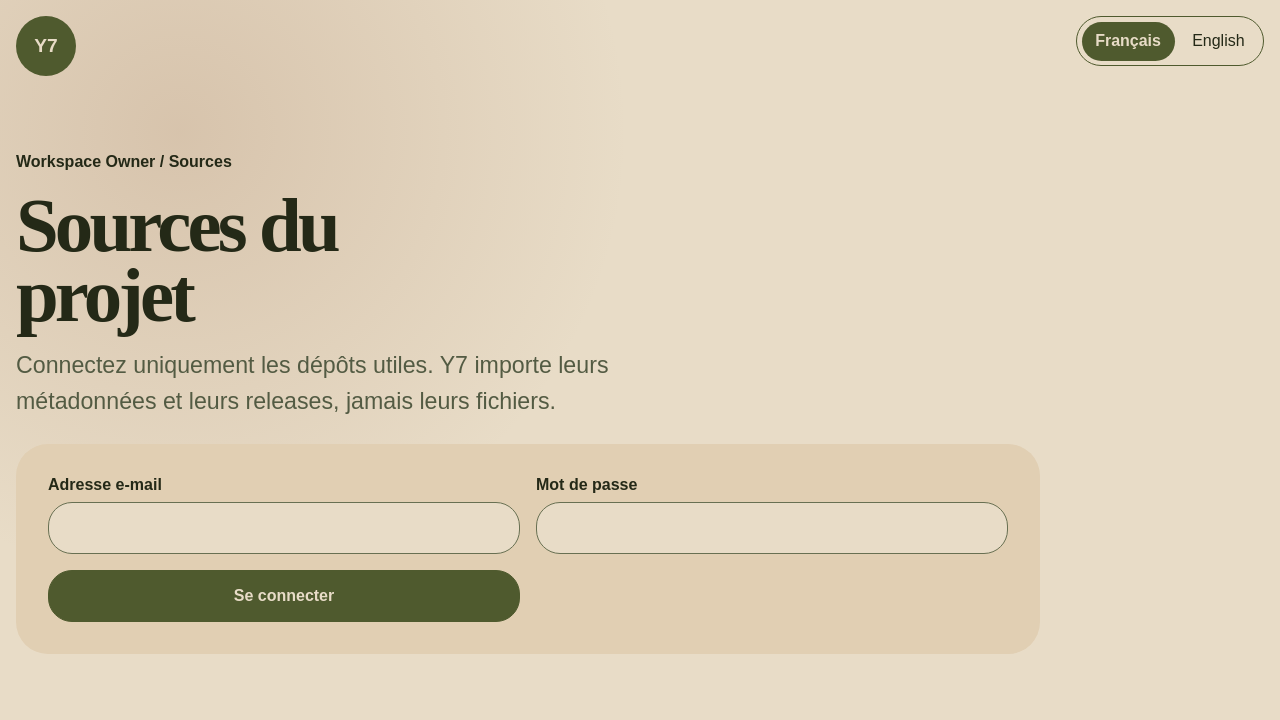
Scenario: root orientation › routes /manage/sources to bilingual first-party source management
Expected: the heading "Sources du projet" is shown, [16,183,337,338]
Click the button "English": (1218, 41) [1178,22,1258,61]
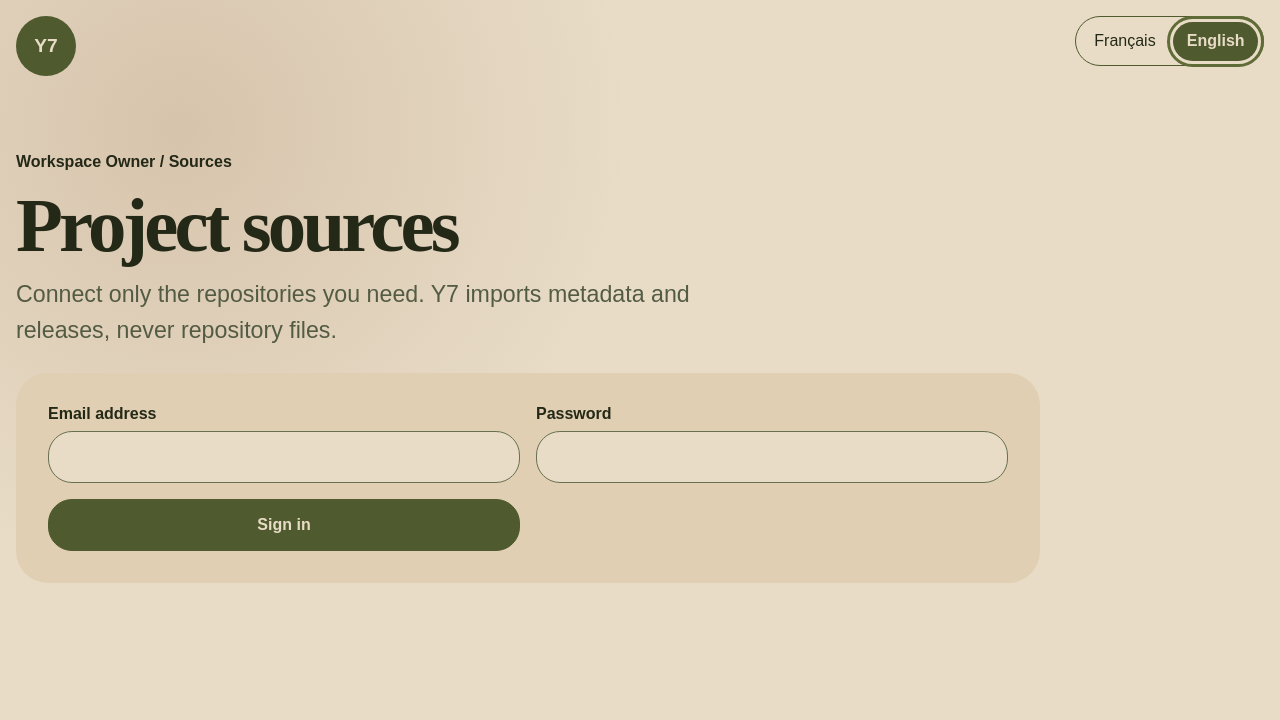
Result: the heading "Project sources" is shown at [16,191,477,261]
